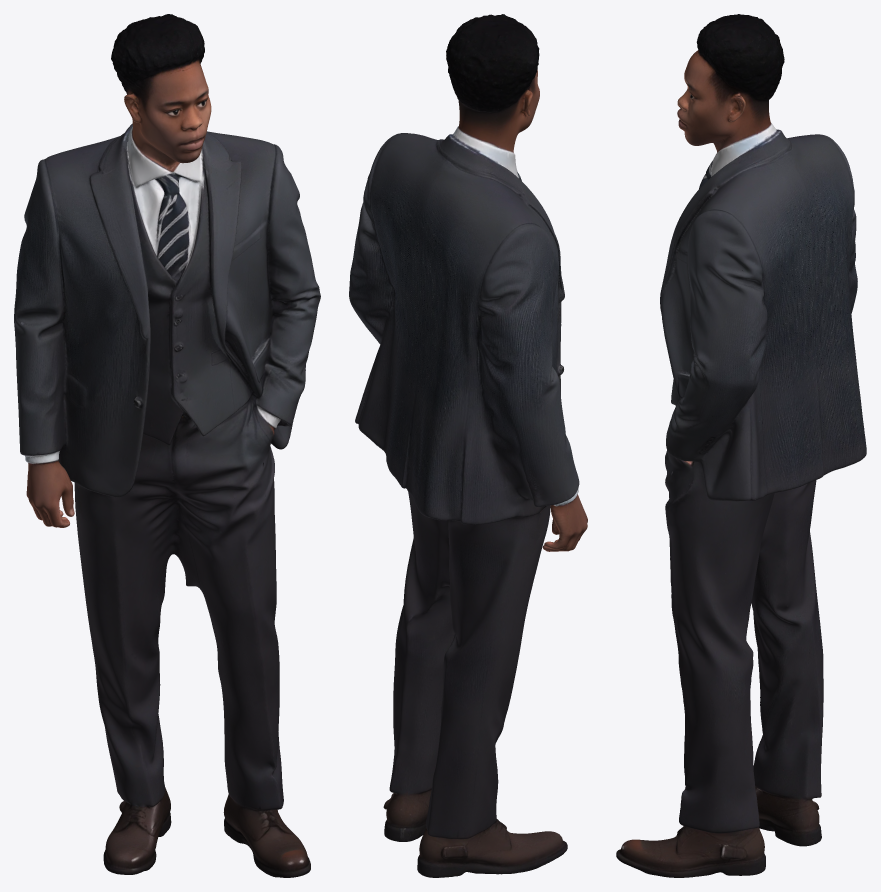
Rendered from teacher.glb.
The picture shows the model from 3 angles, left to right: view 1: azimuth 30°, elevation 25°; view 2: azimuth 150°, elevation 25°; view 3: azimuth 270°, elevation 25°; orthographic projection. The views are drawn at different scales.
Visible parts, largest first — view 1: Object_5, Object_6, Object_7; view 2: Object_6, Object_5; view 3: Object_6, Object_5.
Part boxes in pixels (x1,y1,x2,y2): Object_5: (53, 17, 320, 877); Object_6: (14, 14, 320, 874); Object_7: (91, 237, 199, 589); Object_6: (349, 17, 587, 877); Object_5: (350, 14, 567, 874); Object_6: (685, 14, 866, 875); Object_5: (616, 16, 809, 877).
Size of the model in its own units: 0.6042 by 1.9 by 0.5347.
1 material, 1 textured.
